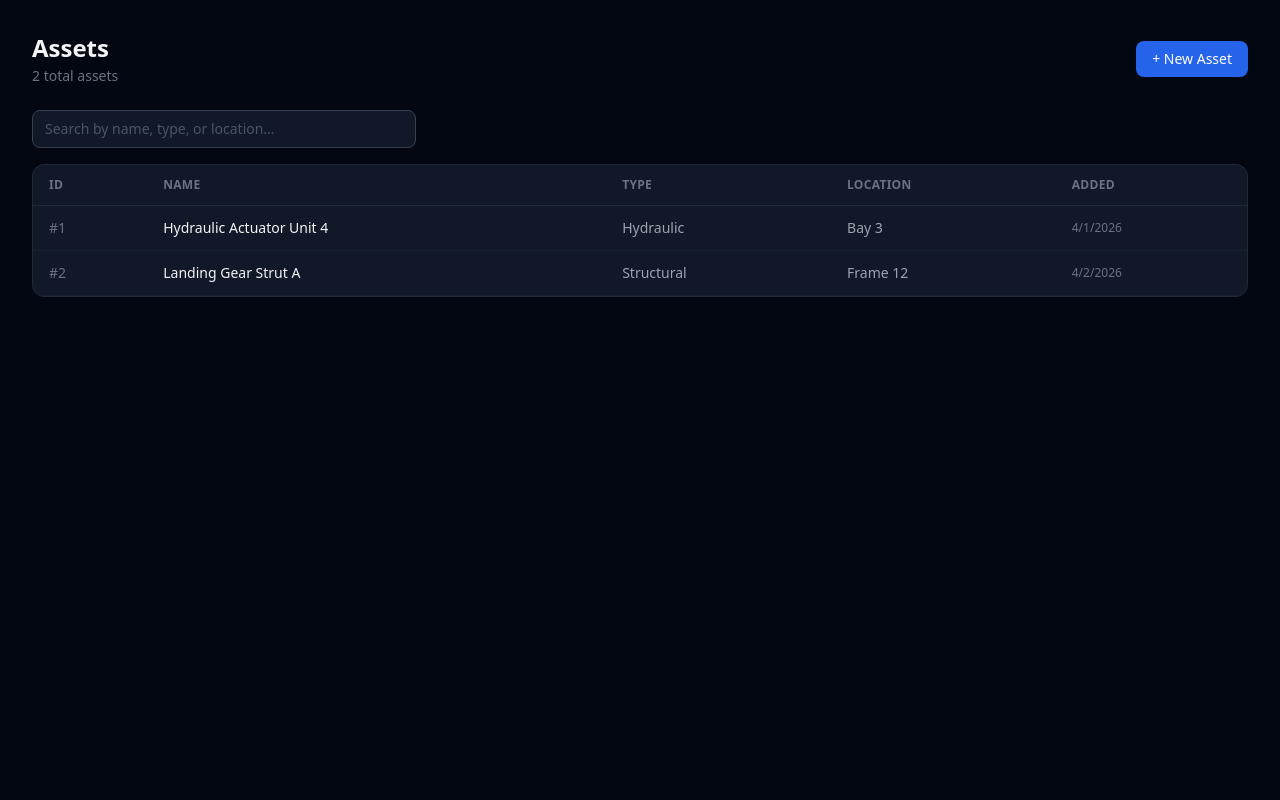
Test: Assets — slide-over › shows Edit Asset section for admin in slide-over
Click the text "Hydraulic Actuator Unit 4". click: (246, 228)
box: [147,206,606,250]
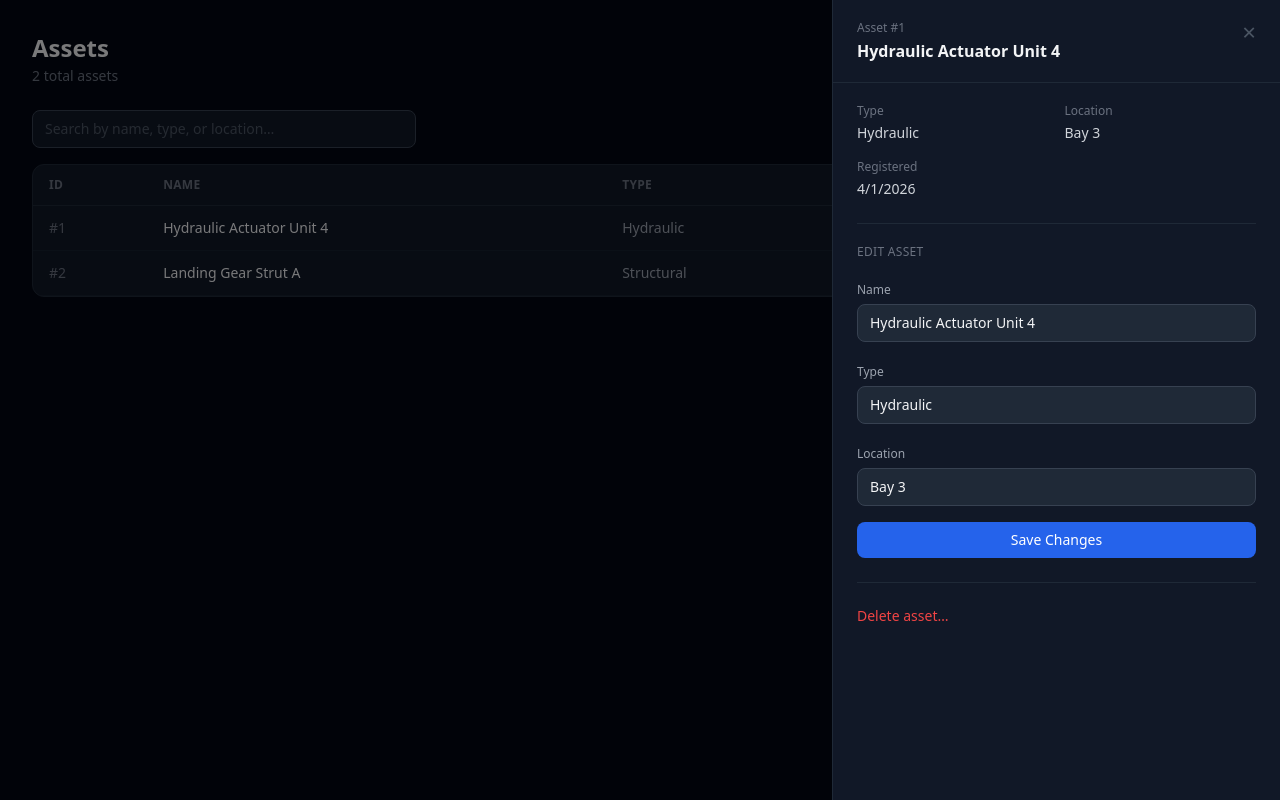
Check: the text "Edit Asset" is shown, box [857,243,924,260]
